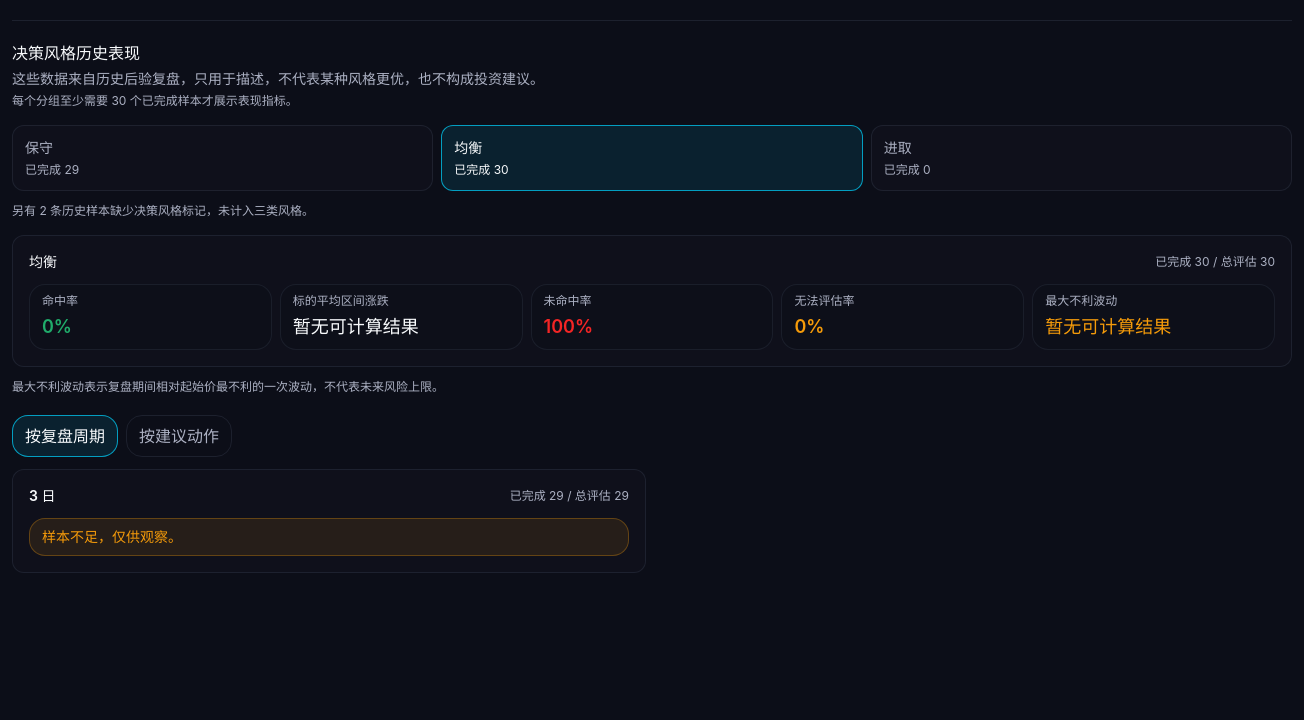
DecisionSignalProfileCalibration › switches only between the two frozen user-facing breakdown views
Click the button "按建议动作": (179, 436) [126, 415, 232, 457]
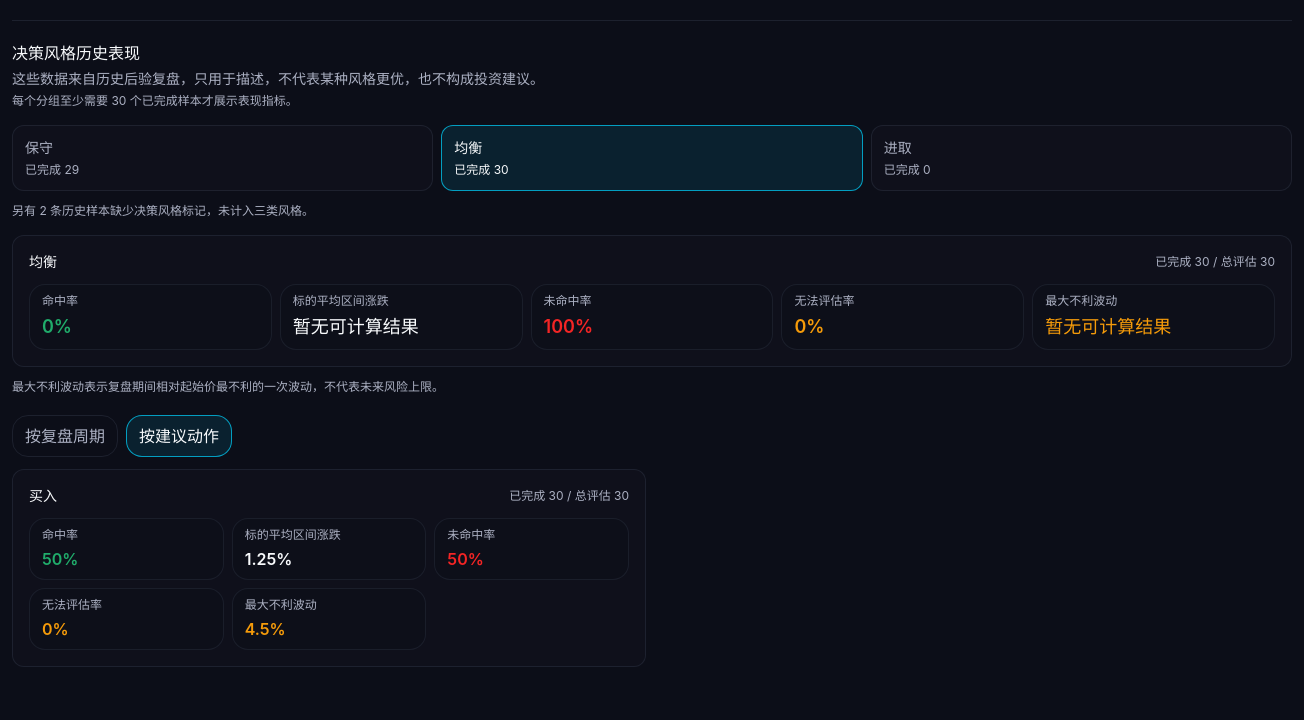
Now the heading "买入" is shown, box [29, 486, 57, 506]
Now the heading "3 日" is gone
